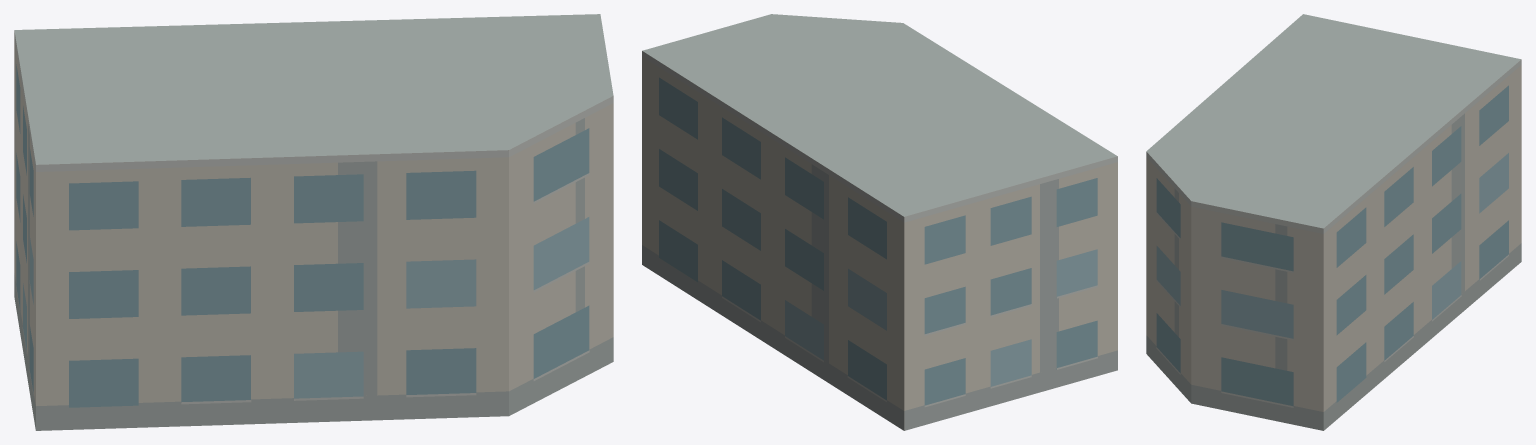
File: residential-57e38a2e-0758-43f7-8eb4-db34eb73248b.glb
3 views of the same model, side by side, from view 1: azimuth 30°, elevation 25°; view 2: azimuth 150°, elevation 25°; view 3: azimuth 270°, elevation 25° (orthographic). The views are drawn at different scales.
Parts seen in each view (by area): view 1: residential-57e38a2e-0758-43f7-8eb4-db34eb73248b.tmp; view 2: residential-57e38a2e-0758-43f7-8eb4-db34eb73248b.tmp; view 3: residential-57e38a2e-0758-43f7-8eb4-db34eb73248b.tmp.
Boxes of the visible parts, left/top/right/bottom form: residential-57e38a2e-0758-43f7-8eb4-db34eb73248b.tmp: left=14, top=14, right=613, bottom=430; residential-57e38a2e-0758-43f7-8eb4-db34eb73248b.tmp: left=642, top=14, right=1117, bottom=430; residential-57e38a2e-0758-43f7-8eb4-db34eb73248b.tmp: left=1146, top=14, right=1521, bottom=430.
Size of the model in its own units: 20.47 by 9 by 15.14.
